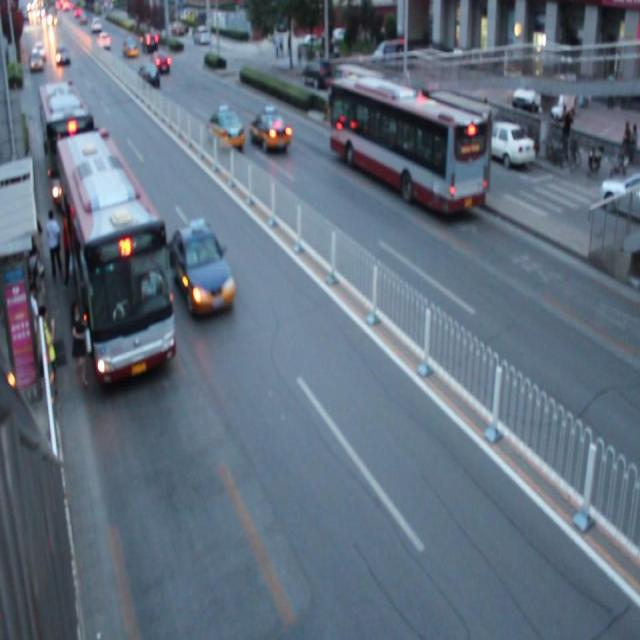car: (171, 223, 235, 315), (204, 107, 244, 151), (249, 110, 290, 152), (136, 62, 159, 88)
van: (56, 137, 175, 380), (330, 76, 486, 213), (36, 82, 94, 201)
